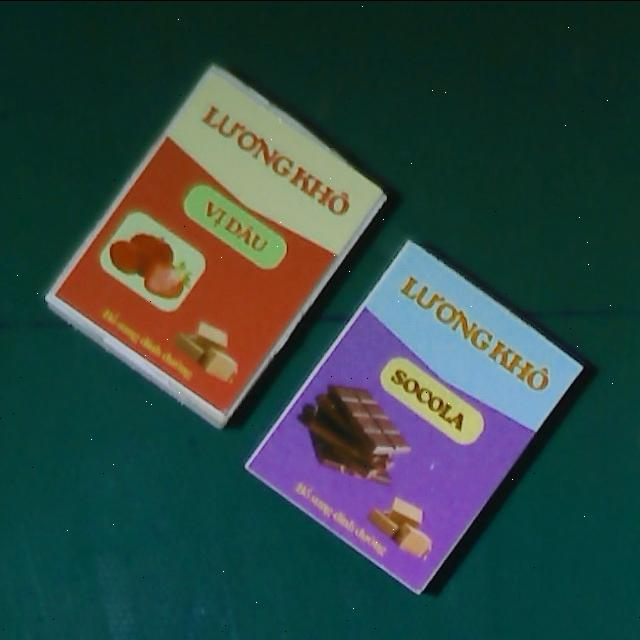dau: (40, 60, 393, 431)
socola: (242, 237, 588, 595)
